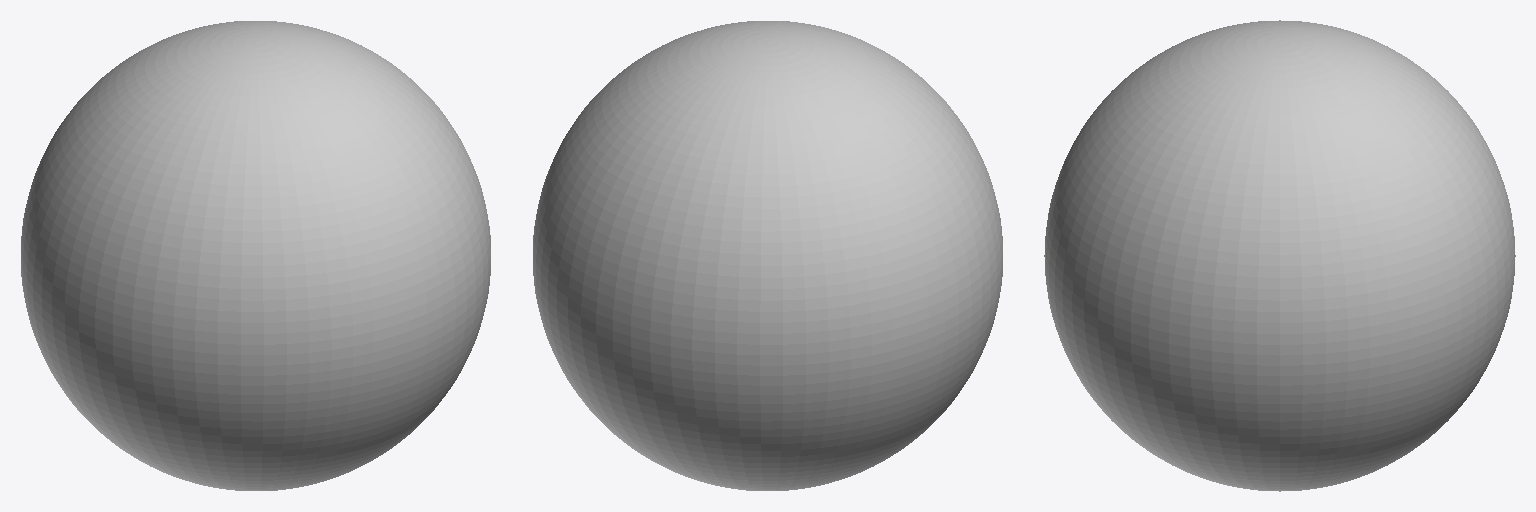
Rendered from smooth_sphere.obj.
The picture shows the model from 3 angles: view 1: azimuth 30°, elevation 25°; view 2: azimuth 150°, elevation 25°; view 3: azimuth 270°, elevation 25°; orthographic projection.
Parts seen in each view (by area): view 1: Sphere.003; view 2: Sphere.003; view 3: Sphere.003.
Boxes of the visible parts, <box> form: Sphere.003: <box>21,21,490,490</box>; Sphere.003: <box>533,21,1002,490</box>; Sphere.003: <box>1044,20,1515,491</box>.
Bounding box in the file's own units: 1 × 1 × 1.